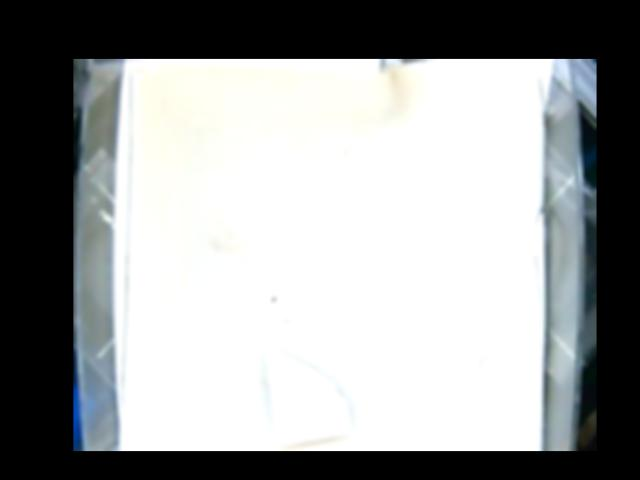China: (261, 344, 352, 447)
